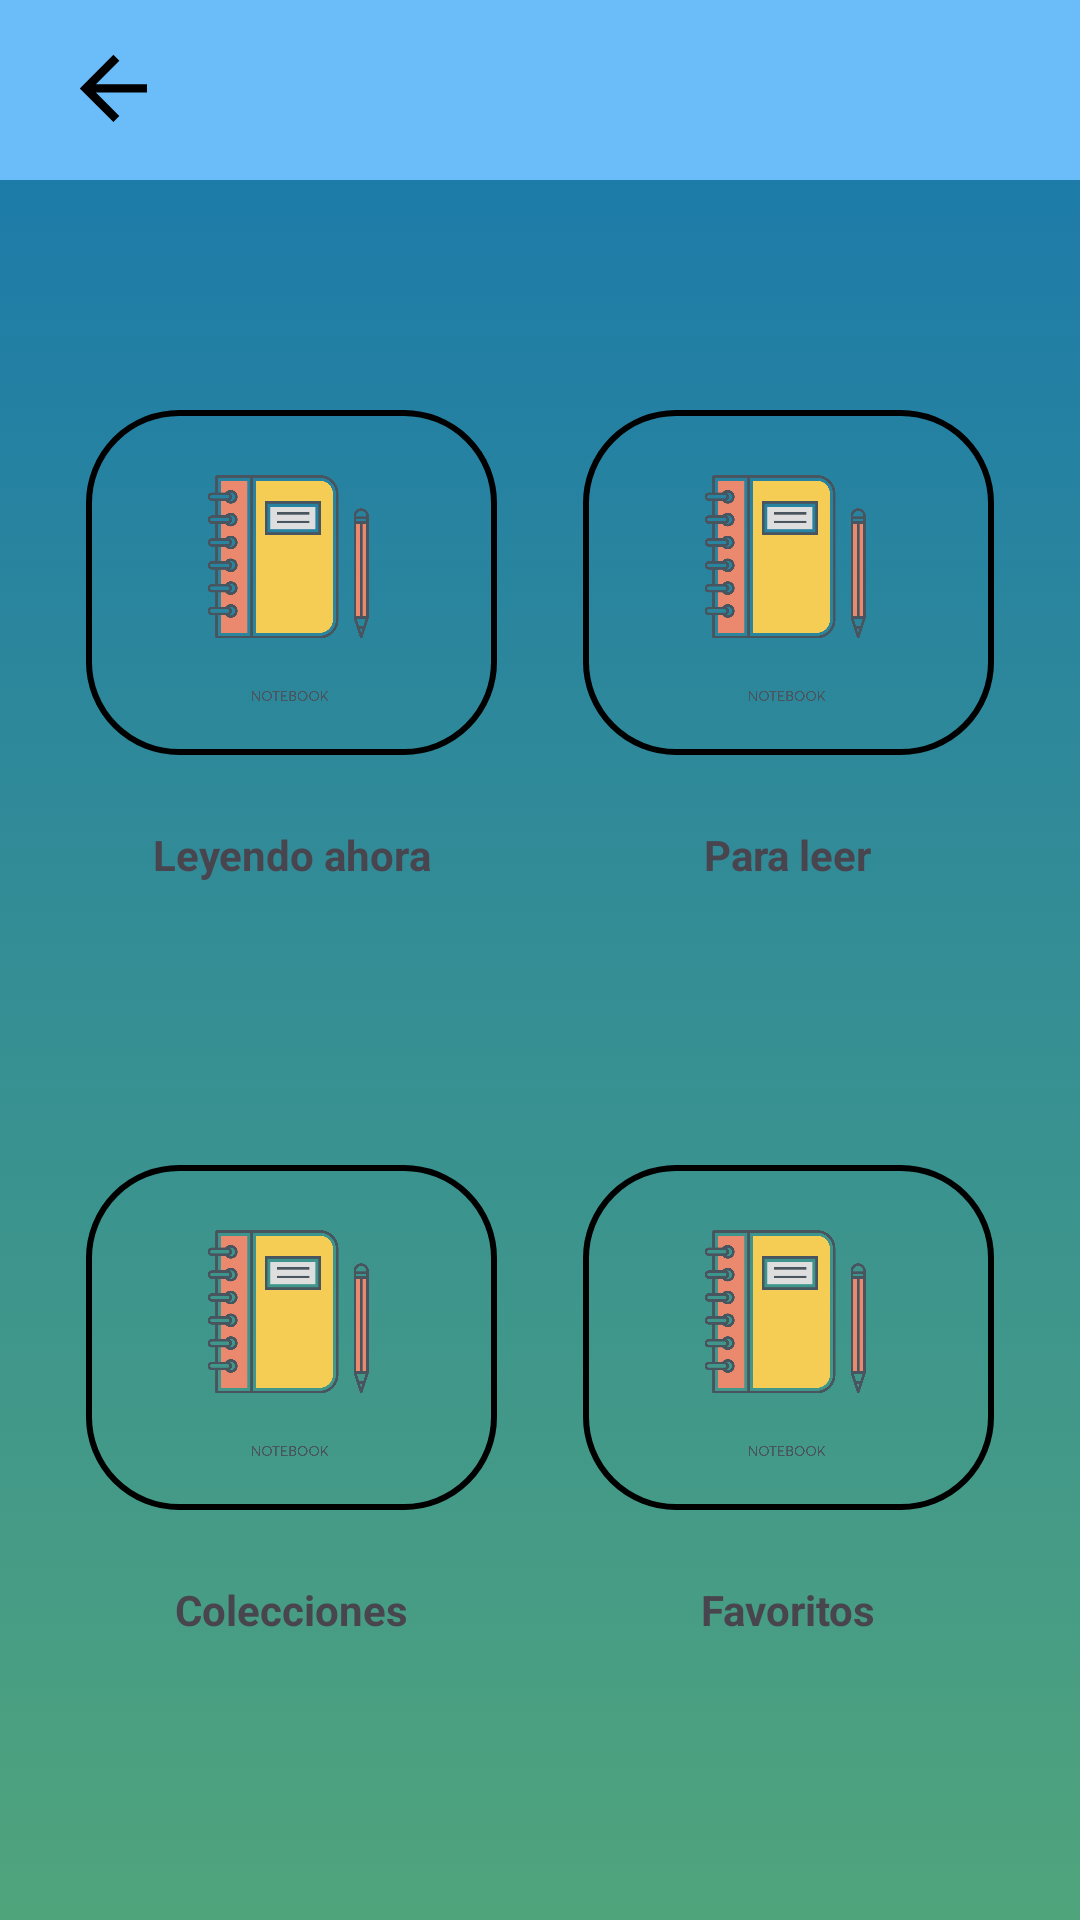

Screen size 1080 × 1920. Icon name, then its box in pixels as (x1, y1, x2, y2):
Regresar hacia atras: (80, 55, 147, 122)
